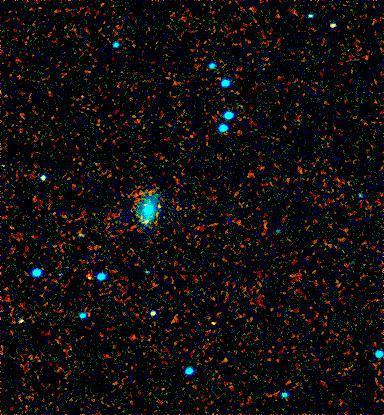star: (142, 187, 172, 217)
